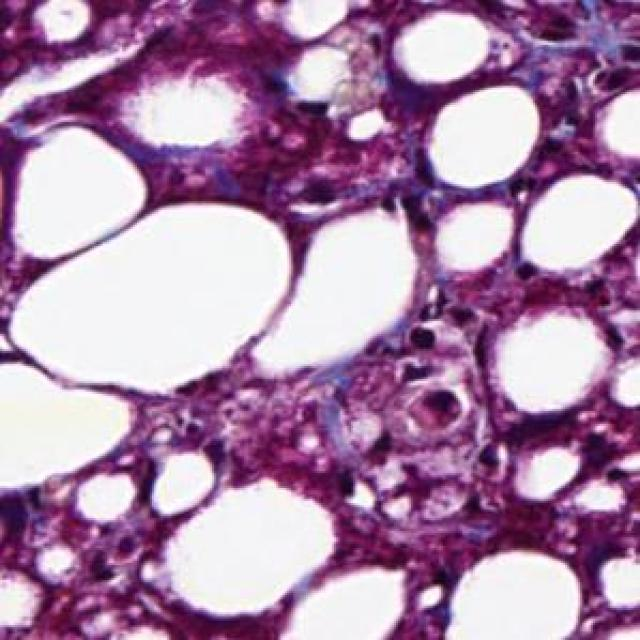inflammation: (513, 0, 640, 98), (379, 328, 488, 437), (330, 456, 462, 526)
